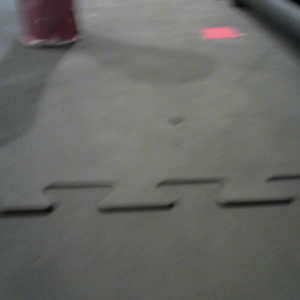Middle: (11, 1, 84, 47)
